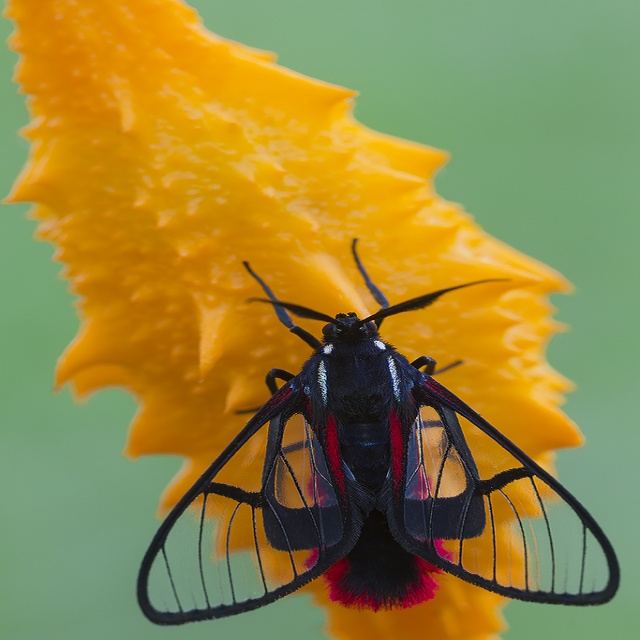Moths and butterflies: (132, 232, 625, 628)
